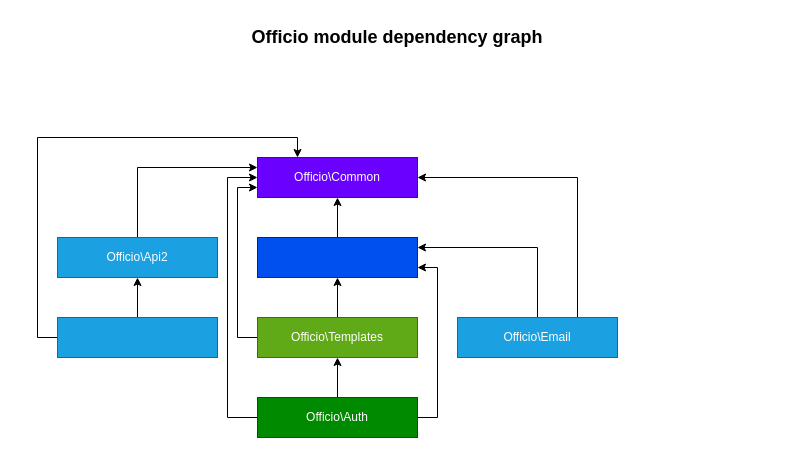
Image size: 794x455. Some labels were removed from this diagram. Here are the shapes that lost their labels. From the top down, the centre of each, then its label:
[337,257]: Officio\Comms
[137,337]: Officio\Calendar
